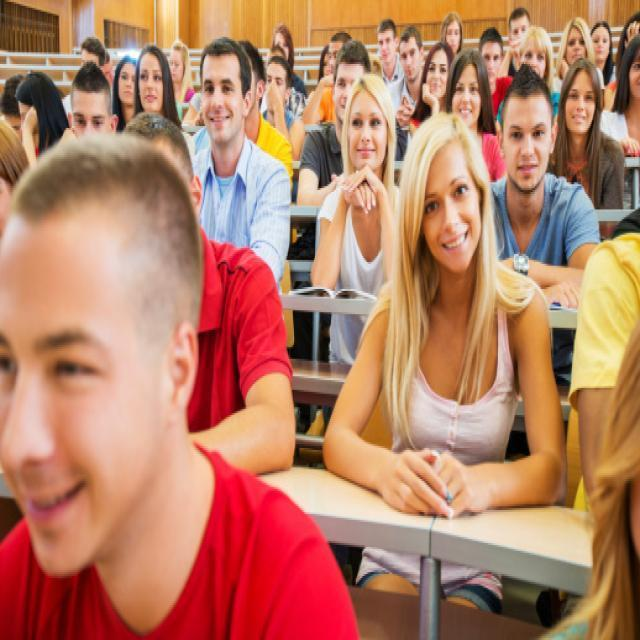Looking away: (71, 90, 108, 142), (169, 48, 184, 82)
Looking forward: (0, 217, 132, 574), (420, 142, 480, 274), (502, 98, 548, 192), (202, 50, 242, 144), (348, 89, 388, 168), (564, 72, 596, 133), (138, 52, 166, 113), (453, 66, 481, 126), (334, 60, 359, 114), (265, 61, 288, 112), (426, 50, 448, 99), (399, 37, 422, 82), (566, 24, 588, 66), (377, 29, 398, 64), (118, 62, 134, 104)
